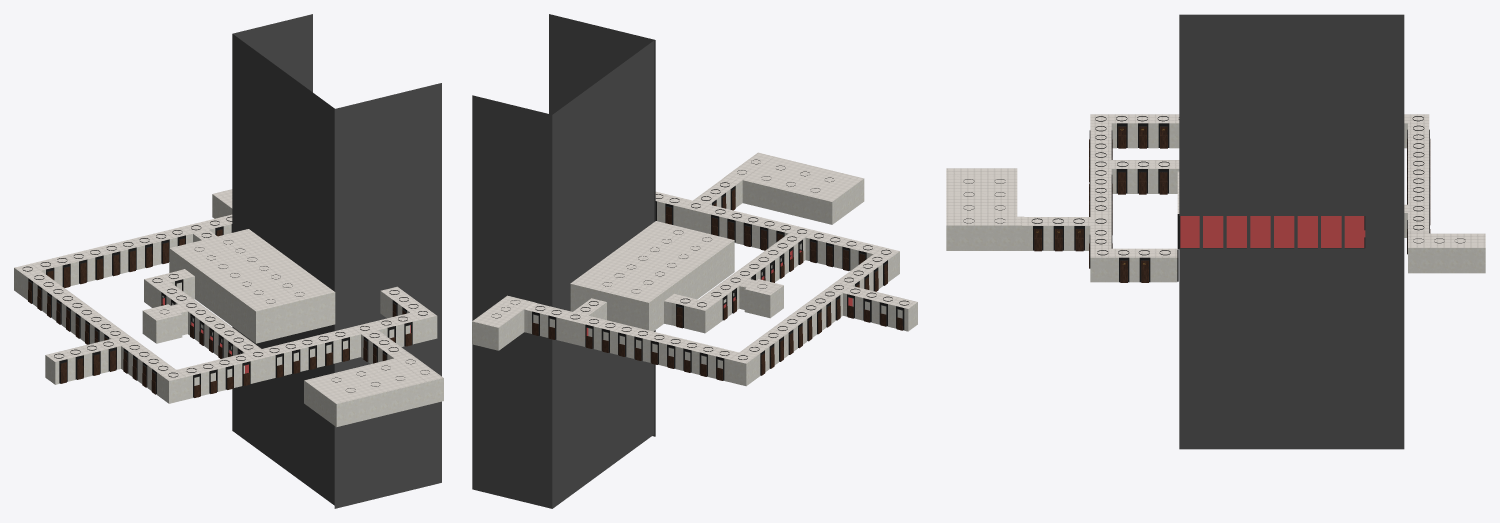
The model's file is TestLevel_V1.fbx.
The picture shows the model from 3 angles, left to right: view 1: azimuth 30°, elevation 25°; view 2: azimuth 150°, elevation 25°; view 3: azimuth 270°, elevation 25°; orthographic projection. The views are drawn at different scales.
Visible parts, largest first — view 1: halklchunk.002, halklchunk, lamp; view 2: halklchunk.002, halklchunk, lamp; view 3: halklchunk.002, halklchunk, lamp.
Part boxes in pixels (x1,y1,x2,y2): halklchunk.002: [232, 14, 441, 508]; halklchunk: [14, 189, 443, 427]; lamp: [22, 216, 429, 392]; halklchunk.002: [472, 14, 655, 508]; halklchunk: [472, 152, 917, 386]; lamp: [491, 159, 909, 359]; halklchunk.002: [1177, 14, 1404, 449]; halklchunk: [946, 114, 1485, 282]; lamp: [963, 116, 1465, 255].
Bounding box in the file's own units: 9211 × 9283 × 10369.
